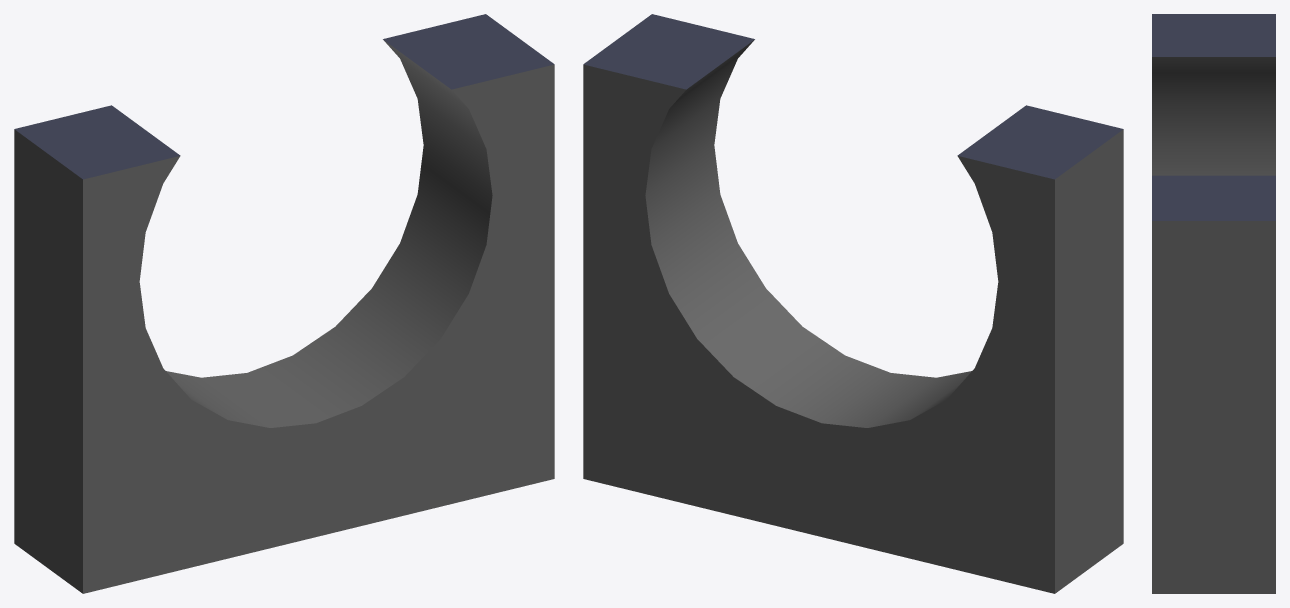
Rendered from door01_wall.FBX.
The picture shows the model from 3 angles, left to right: view 1: azimuth 30°, elevation 25°; view 2: azimuth 150°, elevation 25°; view 3: azimuth 270°, elevation 25°; orthographic projection. The views are drawn at different scales.
Visible parts, largest first — view 1: Box009; view 2: Box009; view 3: Box009.
Part boxes in pixels (box(x1,y1,x2,y2)): Box009: box(14, 14, 554, 593); Box009: box(583, 14, 1123, 593); Box009: box(1152, 14, 1275, 593).
Bounding box in the file's own units: 1815 × 1523 × 459.
